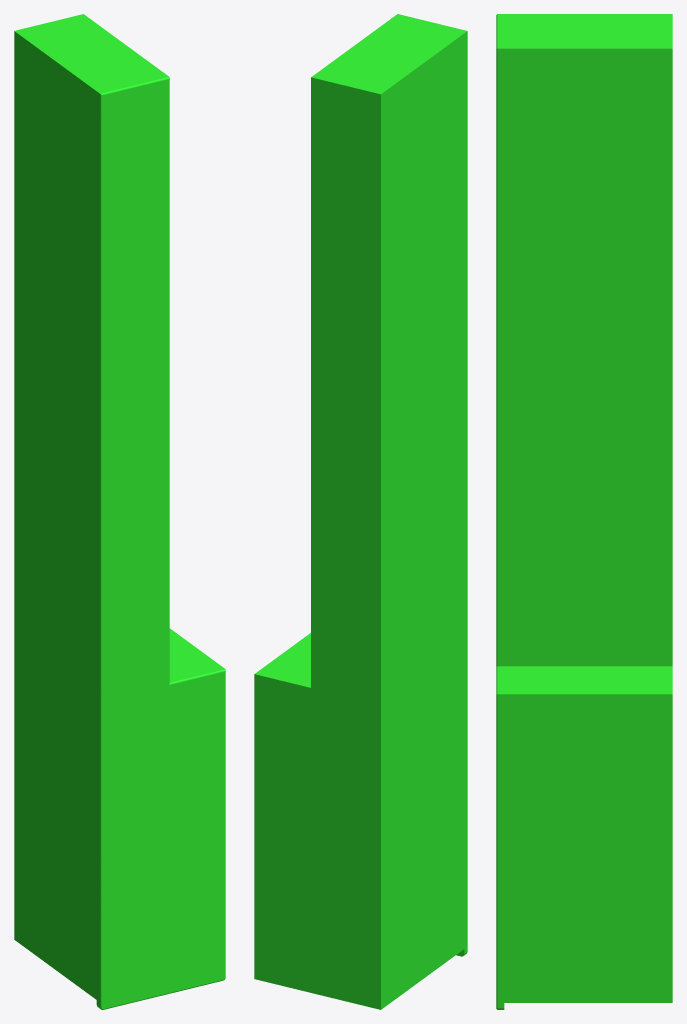
File: Kbdfnat.obj
The picture shows the model from 3 angles, left to right: view 1: azimuth 30°, elevation 25°; view 2: azimuth 150°, elevation 25°; view 3: azimuth 270°, elevation 25°; orthographic projection.
Parts seen in each view (by area): view 1: Kbdfnat; view 2: Kbdfnat; view 3: Kbdfnat.
Part boxes in pixels (<box>): Kbdfnat: <box>14,14,225,1009</box>; Kbdfnat: <box>254,14,467,1009</box>; Kbdfnat: <box>496,14,672,1009</box>.
Size of the model in its own units: 0.1535 by 1.07 by 0.1833.
